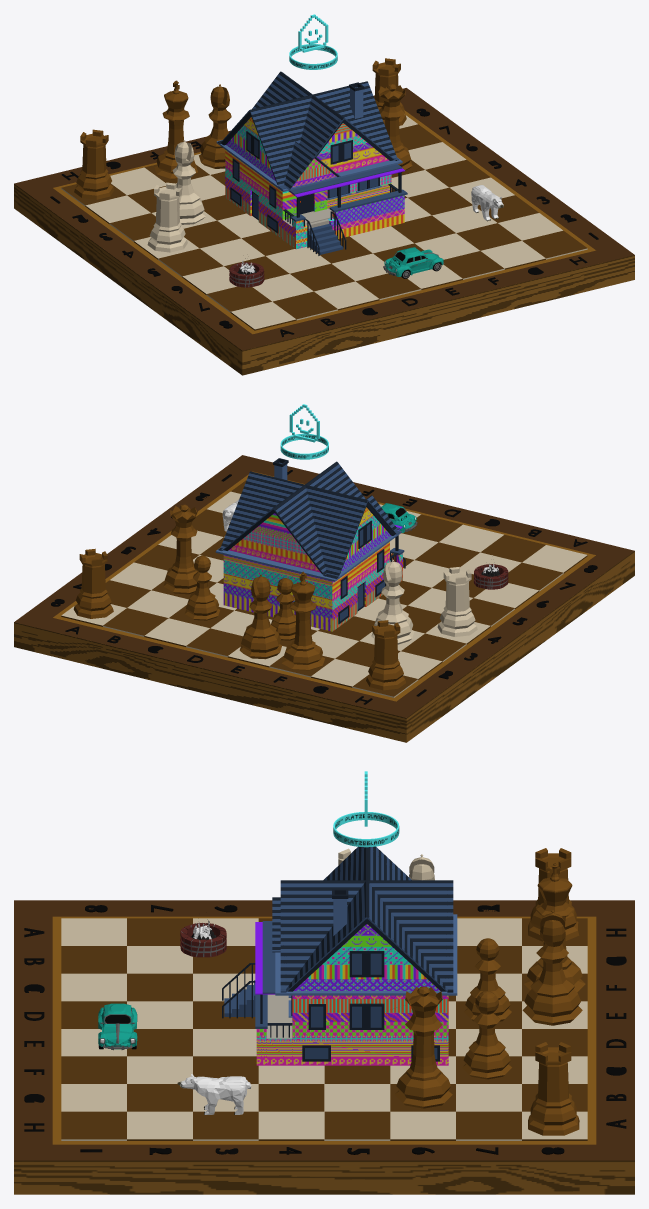
3 views of the same model, one above another, from view 1: azimuth 30°, elevation 25°; view 2: azimuth 150°, elevation 25°; view 3: azimuth 270°, elevation 25° (orthographic). The views are drawn at different scales.
Visible parts, largest first — view 1: Cube.002, Cube.676, VEHICLES_VOLKSWAGEN, TYPE_PREMIUM, OBJRANDOM_CAMPFIRE, ANIMAL_OSO_POLAR; view 2: Cube.002, Cube.676, TYPE_PREMIUM, OBJRANDOM_CAMPFIRE, VEHICLES_VOLKSWAGEN; view 3: Cube.002, Cube.676, VEHICLES_VOLKSWAGEN, ANIMAL_OSO_POLAR, OBJRANDOM_CAMPFIRE, TYPE_PREMIUM.
Part boxes in pixels (bbox=[...]): Cube.002: bbox=[14, 58, 634, 375]; Cube.676: bbox=[216, 71, 407, 255]; VEHICLES_VOLKSWAGEN: bbox=[383, 247, 444, 278]; TYPE_PREMIUM: bbox=[289, 14, 337, 69]; OBJRANDOM_CAMPFIRE: bbox=[229, 258, 264, 287]; ANIMAL_OSO_POLAR: bbox=[471, 185, 503, 221]; Cube.002: bbox=[14, 455, 634, 742]; Cube.676: bbox=[215, 458, 405, 631]; TYPE_PREMIUM: bbox=[280, 404, 328, 459]; OBJRANDOM_CAMPFIRE: bbox=[473, 563, 508, 589]; VEHICLES_VOLKSWAGEN: bbox=[381, 503, 417, 532]; Cube.002: bbox=[14, 848, 634, 1194]; Cube.676: bbox=[222, 846, 457, 1065]; VEHICLES_VOLKSWAGEN: bbox=[98, 1003, 137, 1050]; ANIMAL_OSO_POLAR: bbox=[177, 1074, 251, 1114]; OBJRANDOM_CAMPFIRE: bbox=[180, 919, 226, 957]; TYPE_PREMIUM: bbox=[333, 771, 399, 847].
Bounding box in the file's own units: 3981 × 2201 × 4012.
Materials: 39 (8 with a texture image).
